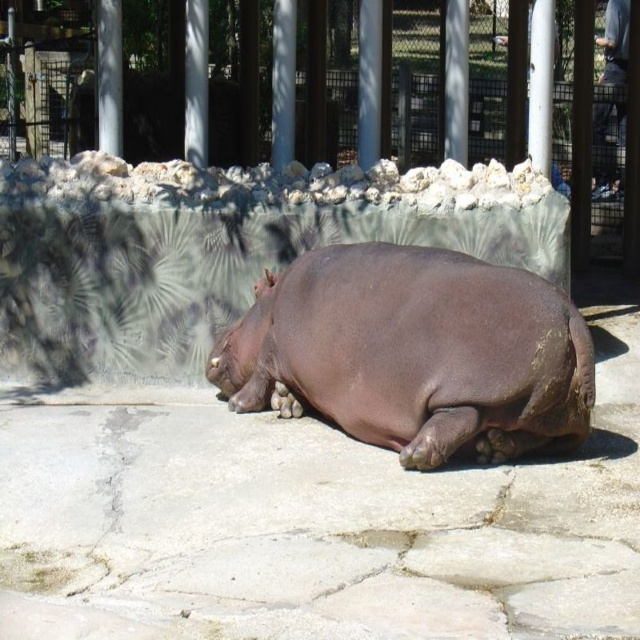Hippopotamus: (202, 239, 598, 475)
